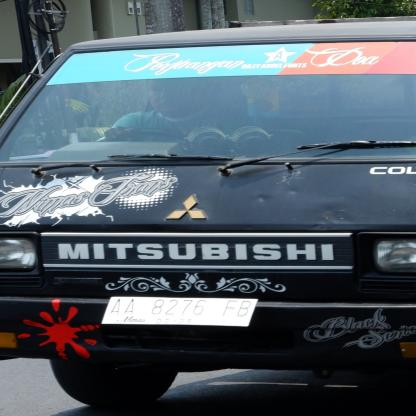Plat-Nomor: (98, 289, 264, 332)
